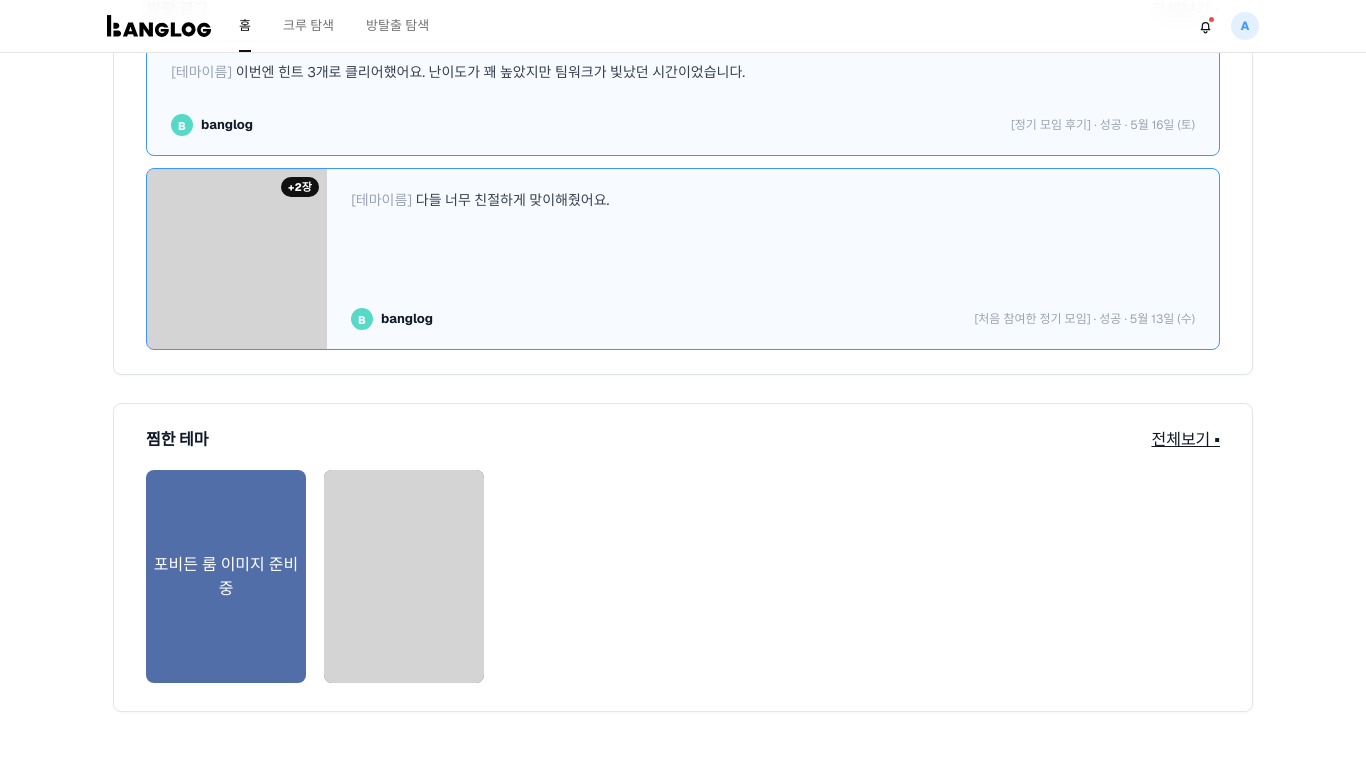
ProfilePage › opens the explore-style theme detail dialog from the favorite summary
(page scrolled)
Click the link "포비든 룸 이미지 준비 중": x=226, y=577 [146, 470, 306, 683]
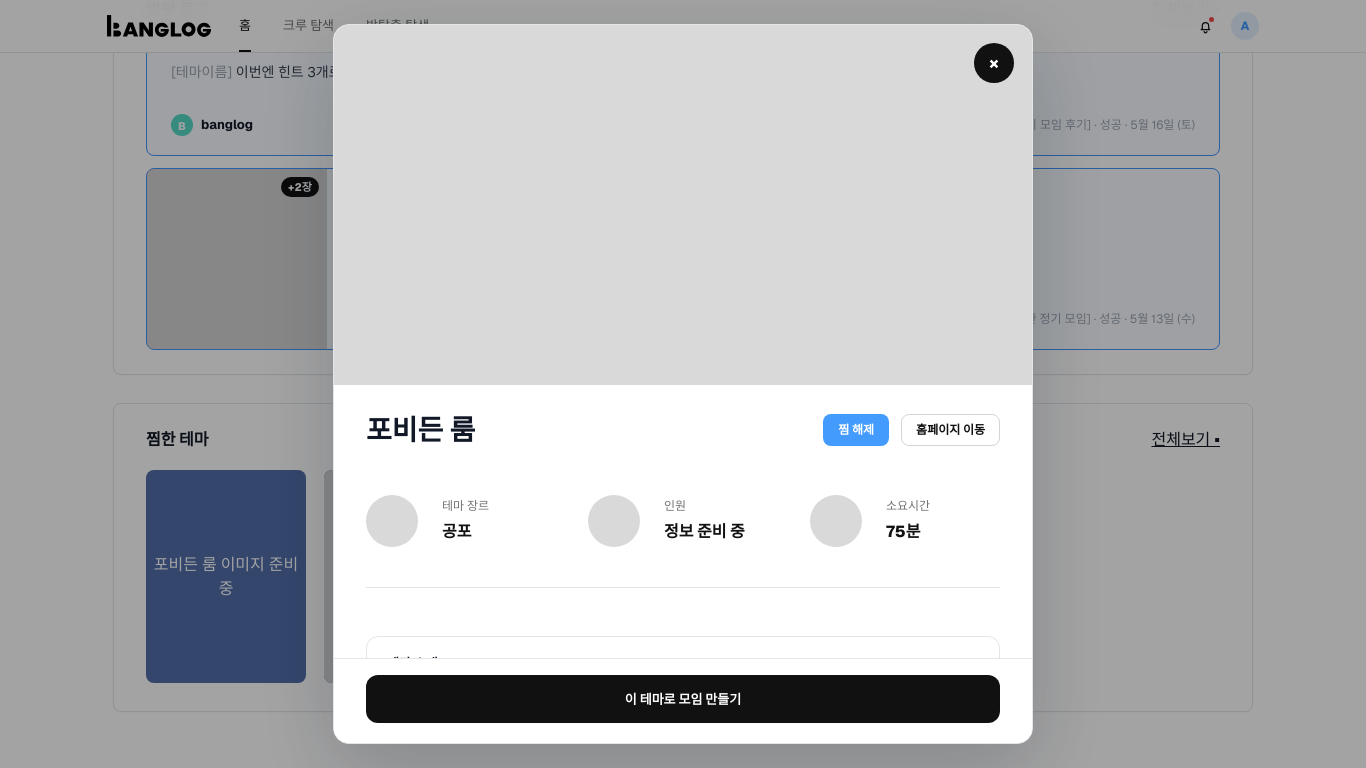
Expected: the dialog "포비든 룸" is shown, [333, 24, 1033, 744]
